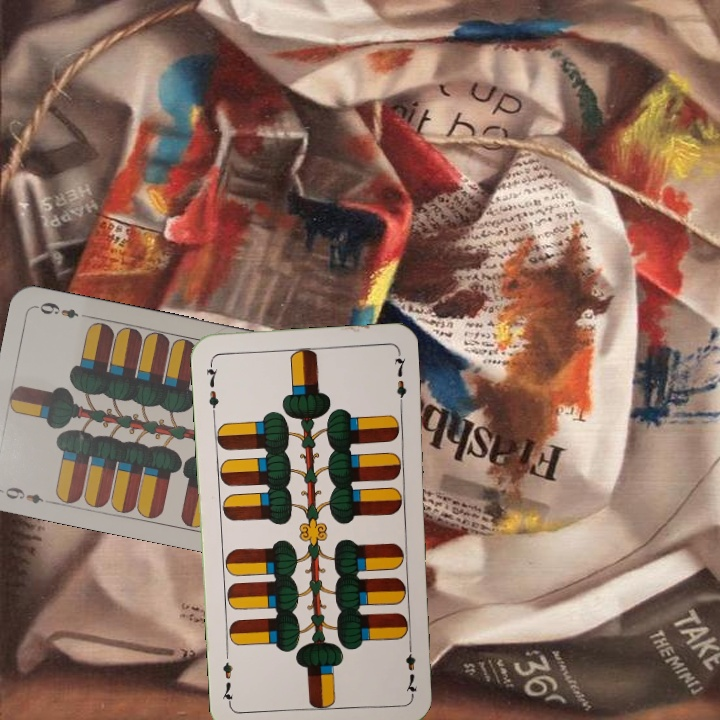E7: (202, 358, 222, 417), (401, 637, 420, 696)
E9: (1, 483, 47, 506)
